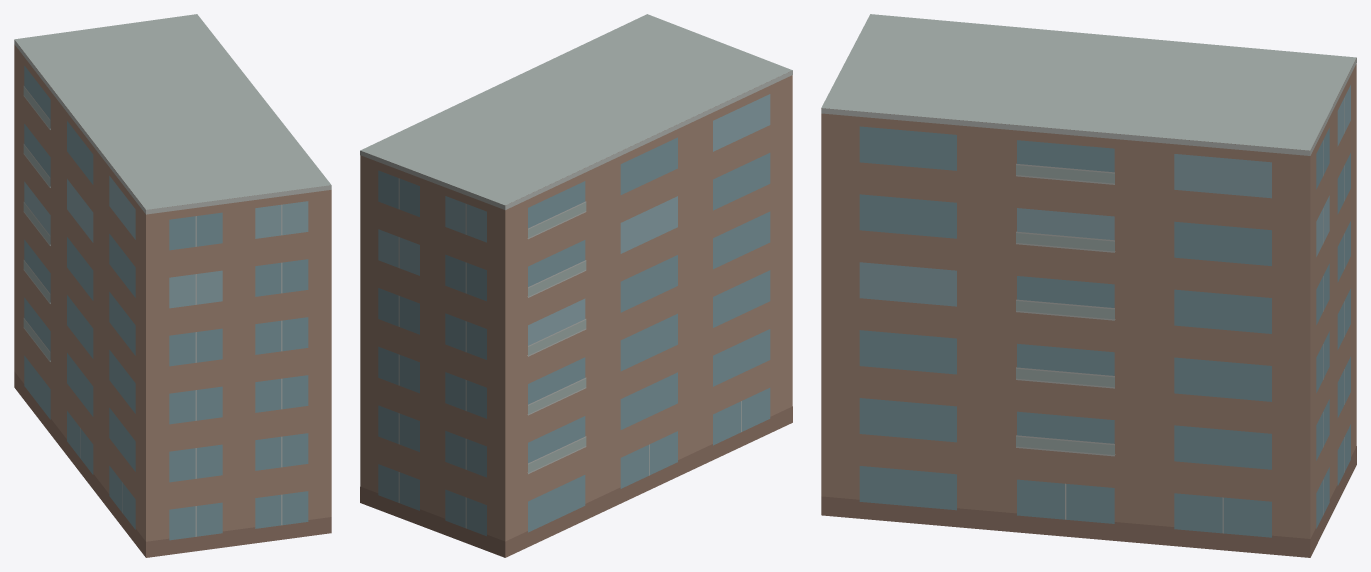
The model's file is survey-upis-32699397.glb.
3 views of the same model, side by side, from view 1: azimuth 30°, elevation 25°; view 2: azimuth 150°, elevation 25°; view 3: azimuth 270°, elevation 25° (orthographic). The views are drawn at different scales.
Parts seen in each view (by area): view 1: survey-upis-32699397.tmp; view 2: survey-upis-32699397.tmp; view 3: survey-upis-32699397.tmp.
Boxes of the visible parts, x1,y1,x2,y2 form: survey-upis-32699397.tmp: [14, 14, 331, 557]; survey-upis-32699397.tmp: [360, 14, 792, 557]; survey-upis-32699397.tmp: [821, 14, 1356, 557].
Size of the model in its own units: 13.17 by 18.3 by 21.82.
